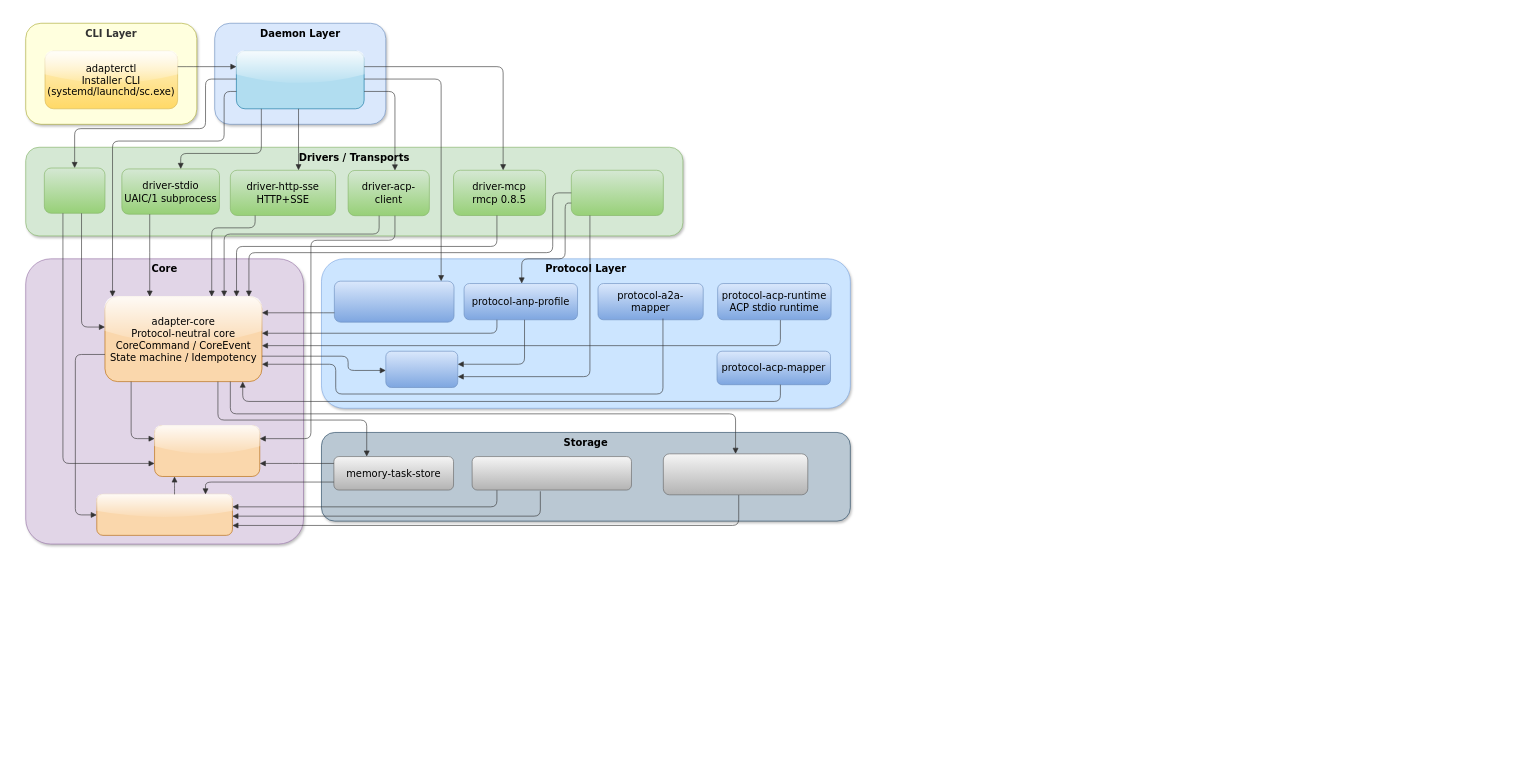
The diagram is 1515 pixels wide and 776 high, and some of its shapes have lost their labels. Here are the shapes that lost their labels. From the top down, the centre of each, then its label:
point (300, 80): adapterd Daemon / Entrypoint (axum HTTP)
point (74, 190): driver-a2a-client
point (617, 193): driver-anp-client
point (394, 301): protocol-a2a-server A2A HTTP/SSE server
point (421, 369): anp-transport
point (207, 450): adapter-model Types & Domain
point (551, 473): postgres-task-store-adapter
point (735, 474): sqlite-task-store-adapter WAL mode
point (164, 514): adapter-store-contract
